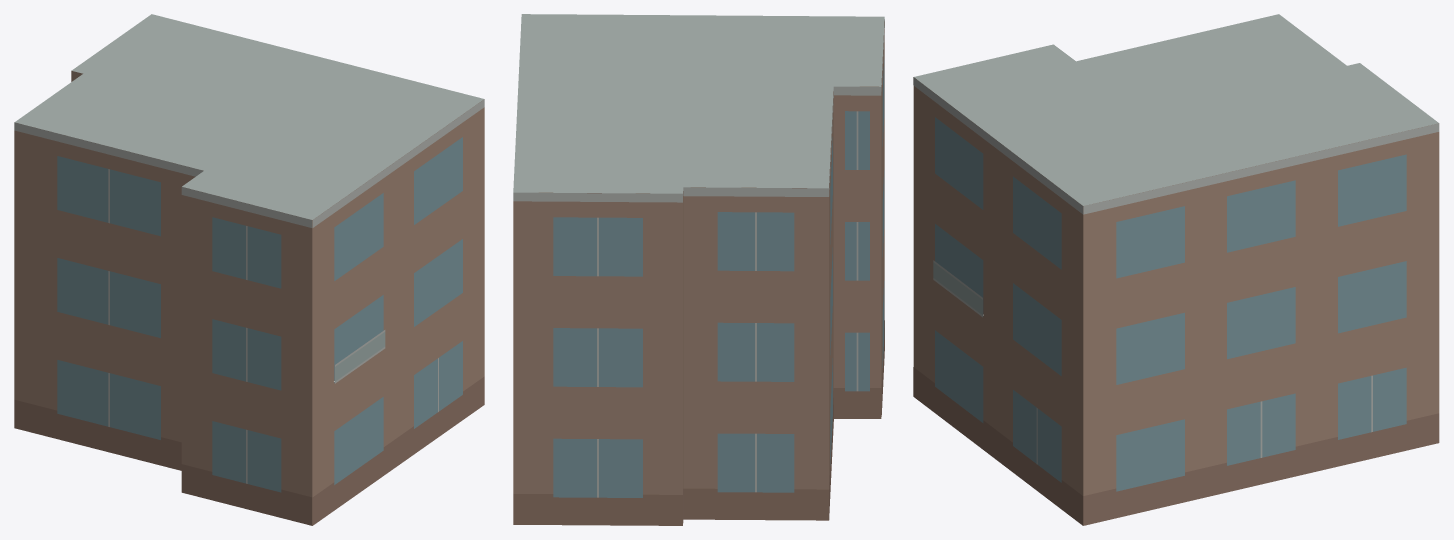
Rendered from survey-upis-32683068.glb.
The picture shows the model from 3 angles, left to right: view 1: azimuth 30°, elevation 25°; view 2: azimuth 150°, elevation 25°; view 3: azimuth 270°, elevation 25°; orthographic projection. The views are drawn at different scales.
Visible parts, largest first — view 1: survey-upis-32683068.tmp; view 2: survey-upis-32683068.tmp; view 3: survey-upis-32683068.tmp.
Part boxes in pixels (left/top/right/bottom): survey-upis-32683068.tmp: left=14, top=14, right=484, bottom=525; survey-upis-32683068.tmp: left=513, top=14, right=884, bottom=525; survey-upis-32683068.tmp: left=913, top=14, right=1439, bottom=525.
Bounding box in the file's own units: 11.8 × 9.15 × 13.64.
